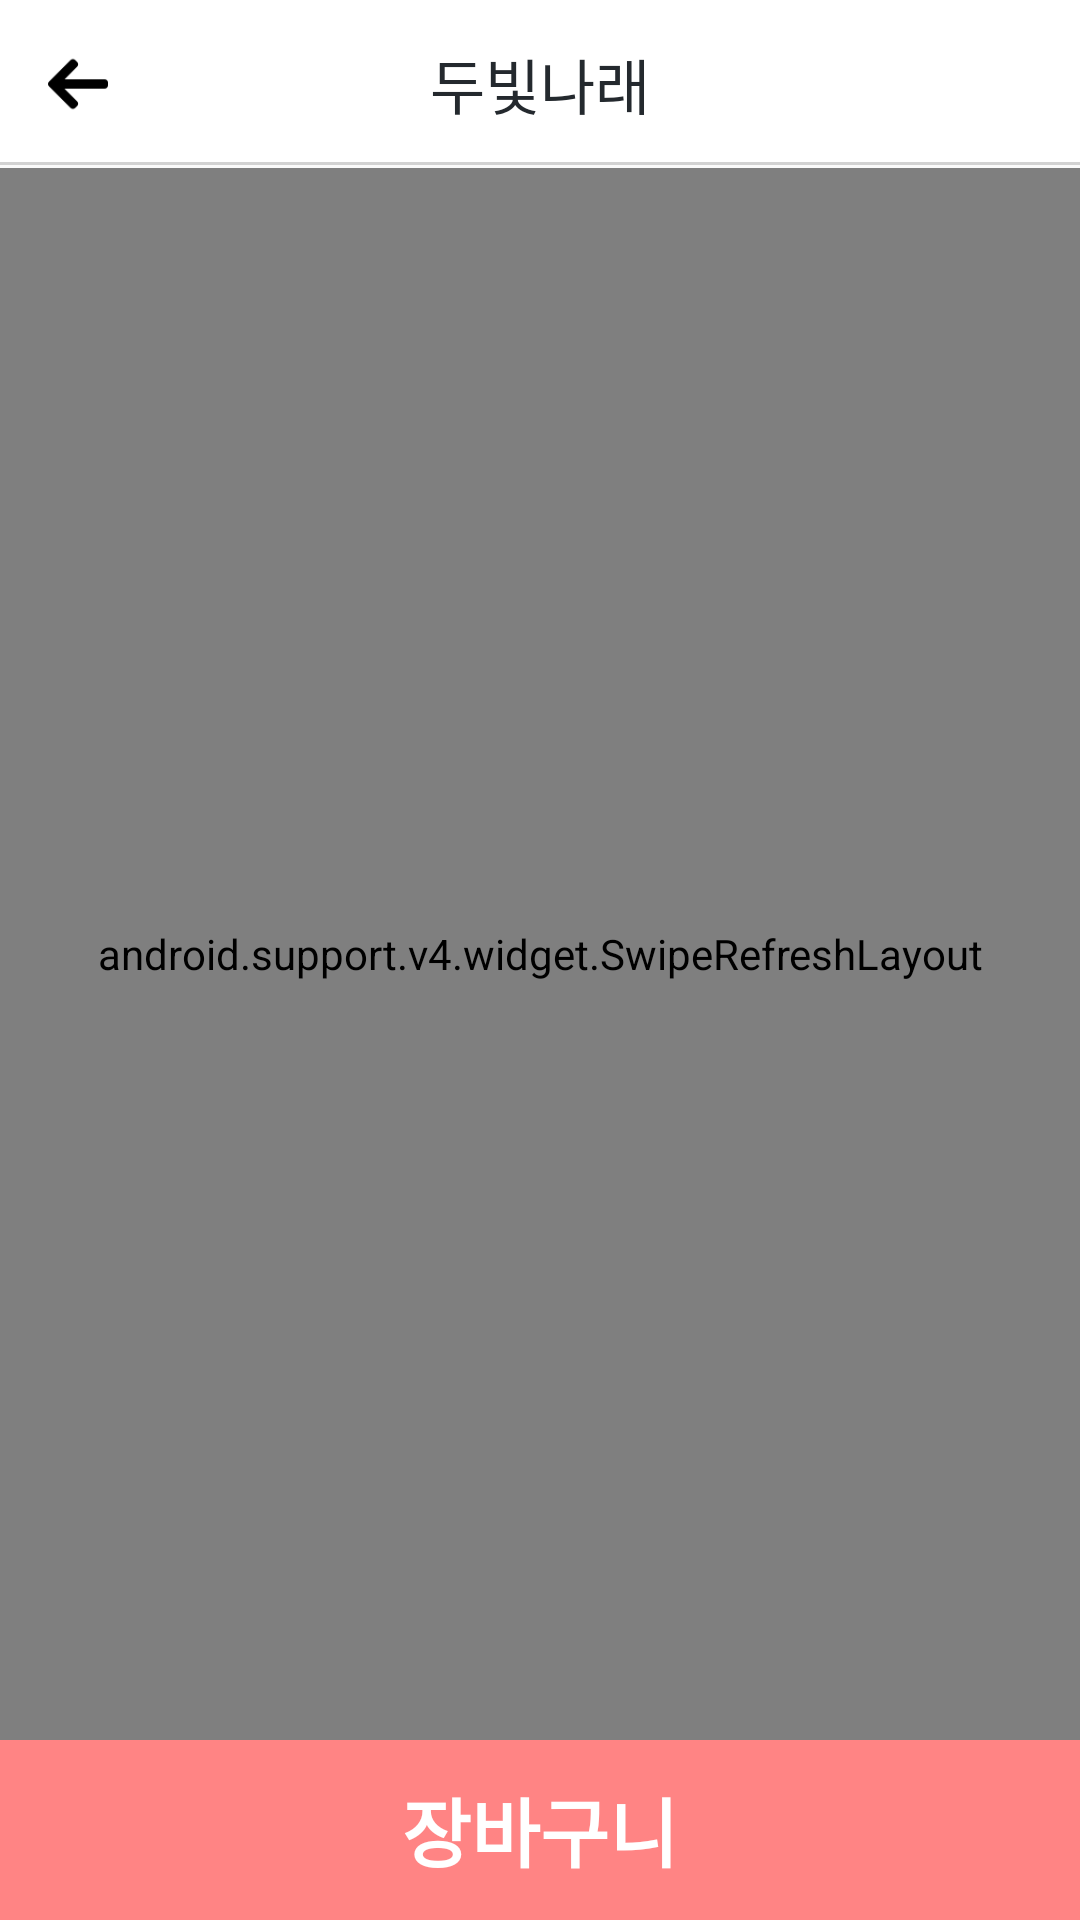

Icon click points for this 1080×1920 phone screenshot, format [x,y]:
left arrow: [78,84]
